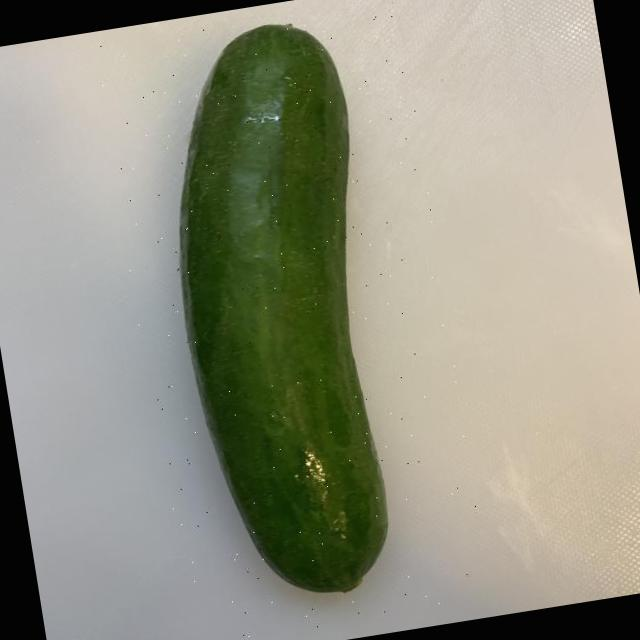Cucumber: (144, 15, 422, 614)
